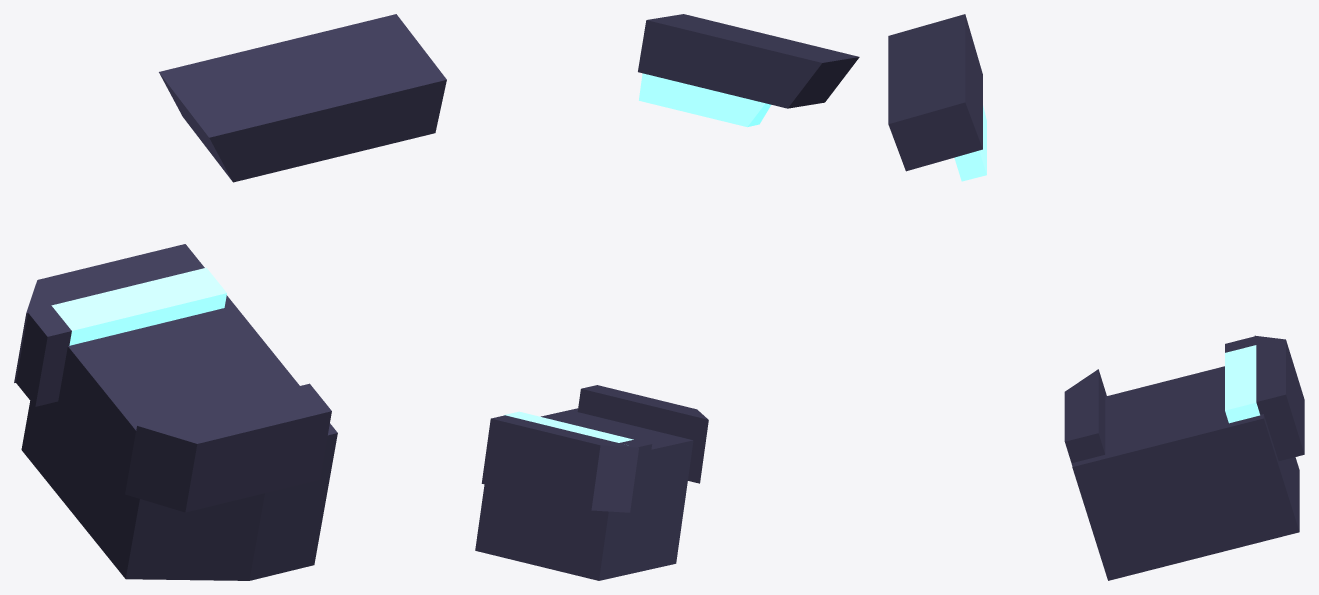
File: Railing_End2.fbx
3 renders of one model, left to right at view 1: azimuth 30°, elevation 25°; view 2: azimuth 150°, elevation 25°; view 3: azimuth 270°, elevation 25°, orthographic. The views are drawn at different scales.
Parts seen in each view (by area): view 1: Cube.081, Cube.079, Cube.083, Cube.082, Cube.078; view 2: Cube.081, Cube.079, Cube.078, Cube.083, Cube.080, Cube.082; view 3: Cube.081, Cube.079, Cube.078, Cube.083, Cube.082, Cube.080.
Part boxes in pixels (x1,y1,x2,y2): Cube.081: (21,295,337,580); Cube.079: (159,14,446,182); Cube.083: (125,383,331,512); Cube.082: (16,267,226,406); Cube.078: (14,244,204,382); Cube.081: (475,408,693,580); Cube.079: (638,14,859,108); Cube.078: (481,415,638,512); Cube.083: (577,385,708,483); Cube.080: (639,73,771,127); Cube.082: (504,411,652,511); Cube.081: (1072,366,1299,580); Cube.079: (888,14,982,171); Cube.078: (1255,335,1304,460); Cube.083: (1064,369,1106,465); Cube.082: (1225,336,1259,423); Cube.080: (954,105,986,181).
Size of the model in its own units: 0.7625 by 1.82 by 1.45.
